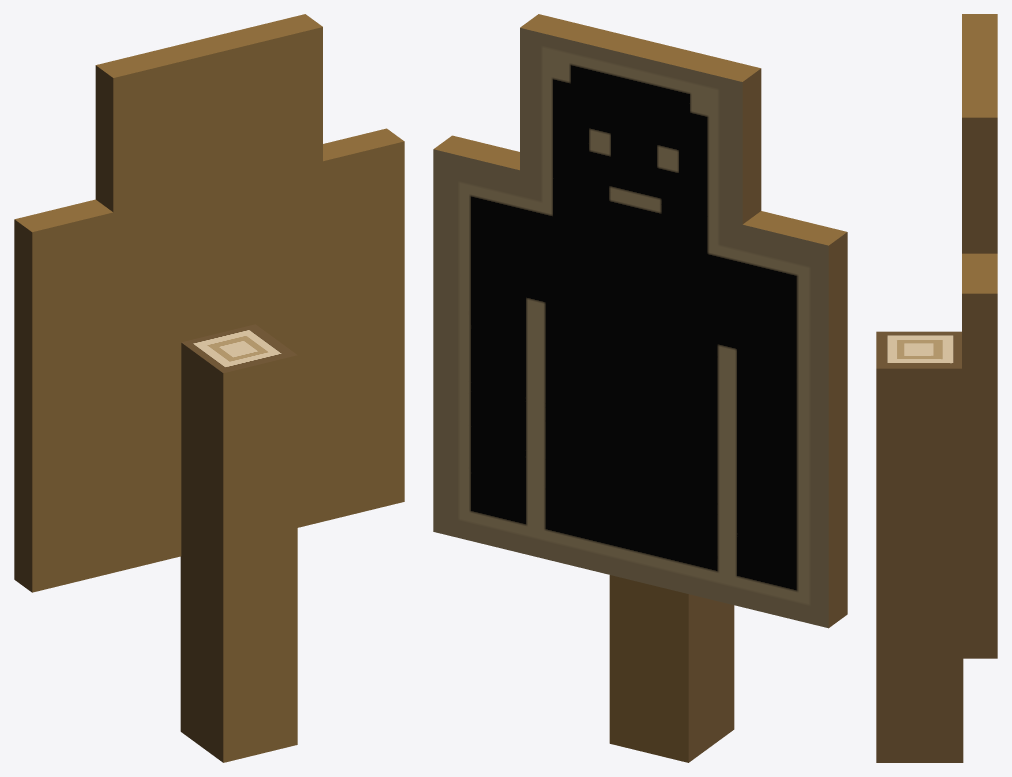
Rendered from TargetDummy_root.fbx.
3 renders of one model, left to right at view 1: azimuth 30°, elevation 25°; view 2: azimuth 150°, elevation 25°; view 3: azimuth 270°, elevation 25°, orthographic. The views are drawn at different scales.
Parts seen in each view (by area): view 1: TargetDummy_sh_5, TargetDummy_sh_1, TargetDummy_sh_8, TargetDummy_sh_3, TargetDummy_sh_7, TargetDummy_sh_2, TargetDummy_sh_9, TargetDummy_sh_10, TargetDummy_sh_4, TargetDummy_sh_6; view 2: TargetDummy_sh_5, TargetDummy_sh_1, TargetDummy_sh_3, TargetDummy_sh_2, TargetDummy_sh_7, TargetDummy_sh_4, TargetDummy_sh_6, TargetDummy_sh_8; view 3: TargetDummy_sh_8, TargetDummy_sh_5, TargetDummy_sh_10, TargetDummy_sh_9, TargetDummy_sh_7, TargetDummy_sh_3, TargetDummy_sh_4.
Boxes of the visible parts, x1,y1,x2,y2 form: TargetDummy_sh_5: (59, 14, 404, 411); TargetDummy_sh_1: (14, 208, 165, 590); TargetDummy_sh_8: (208, 473, 297, 699); TargetDummy_sh_3: (297, 383, 404, 527); TargetDummy_sh_7: (180, 618, 297, 762); TargetDummy_sh_2: (29, 445, 181, 592); TargetDummy_sh_9: (181, 394, 297, 505); TargetDummy_sh_10: (181, 324, 297, 414); TargetDummy_sh_4: (159, 342, 404, 452); TargetDummy_sh_6: (180, 453, 237, 648); TargetDummy_sh_5: (433, 14, 813, 439); TargetDummy_sh_1: (670, 224, 847, 628); TargetDummy_sh_3: (433, 409, 616, 571); TargetDummy_sh_2: (598, 463, 847, 625); TargetDummy_sh_7: (609, 606, 734, 762); TargetDummy_sh_4: (433, 371, 674, 490); TargetDummy_sh_6: (617, 580, 734, 648); TargetDummy_sh_8: (609, 575, 632, 654); TargetDummy_sh_8: (876, 487, 963, 717); TargetDummy_sh_5: (962, 14, 997, 505); TargetDummy_sh_10: (876, 331, 961, 428); TargetDummy_sh_9: (876, 407, 961, 495); TargetDummy_sh_7: (876, 679, 963, 762); TargetDummy_sh_3: (962, 539, 997, 658); TargetDummy_sh_4: (962, 497, 997, 541).
Bounding box in the file's own units: 143 × 246 × 39.88.
Materials: 1 (1 with a texture image).
